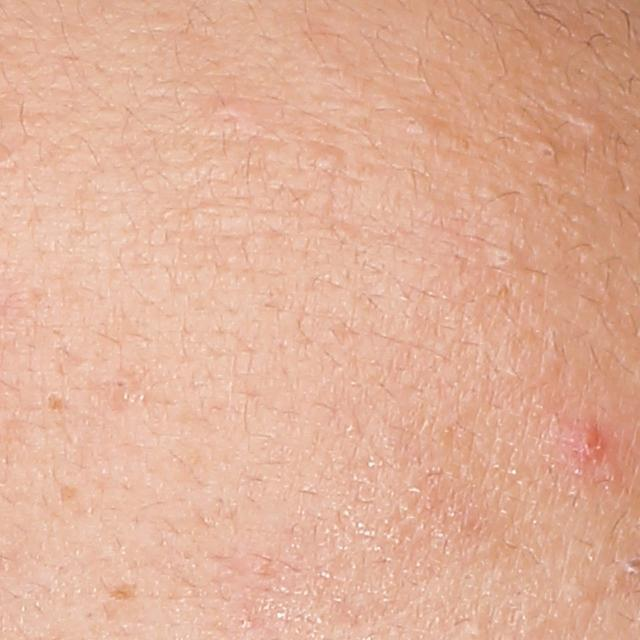comedo: (576, 115, 608, 136)
papule: (572, 425, 604, 463)
